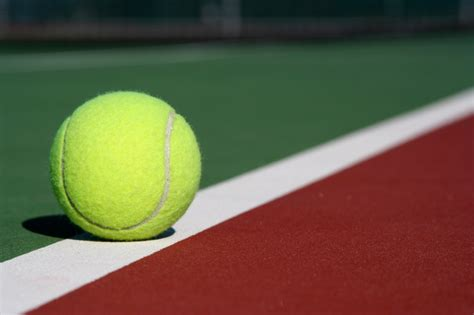tennis_ball: (47, 89, 202, 243)
